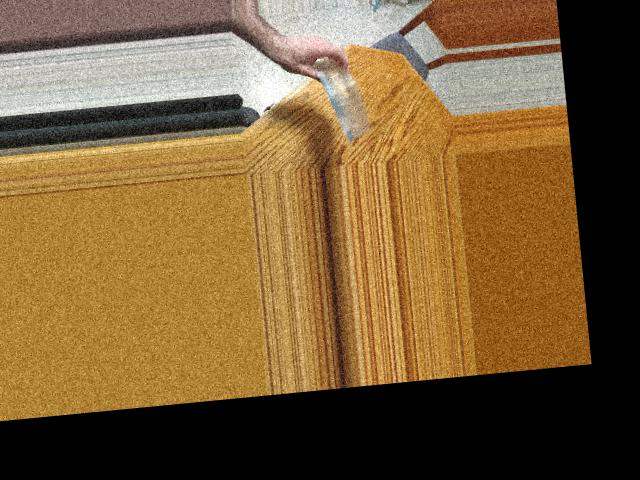cheese: (322, 45, 366, 145)
